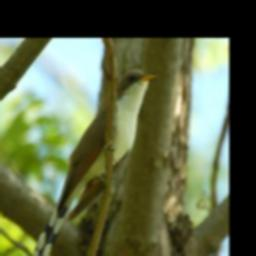Cuckoo: (33, 68, 157, 256)
